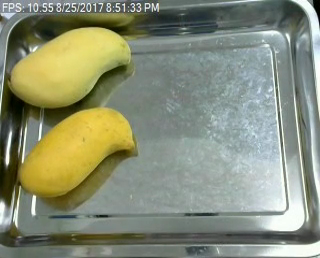Mango: (9, 22, 134, 110), (20, 105, 131, 198)
